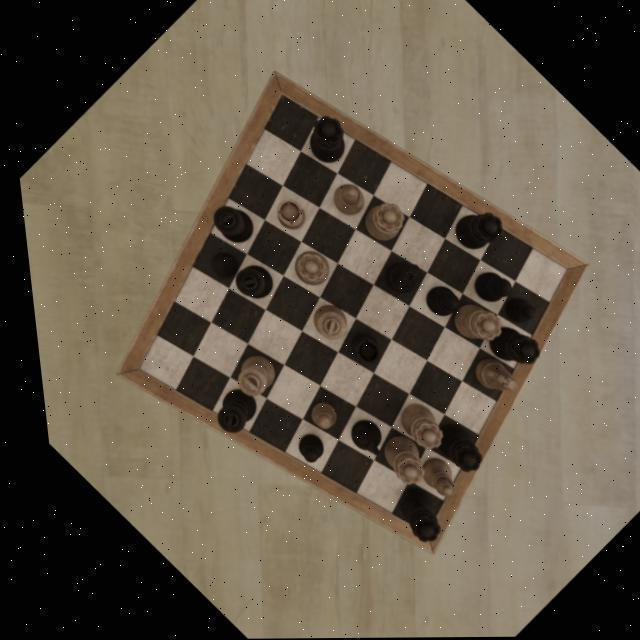chess-table-corners: (392, 516, 429, 550), (539, 252, 573, 284), (262, 84, 294, 112), (120, 352, 149, 380)
